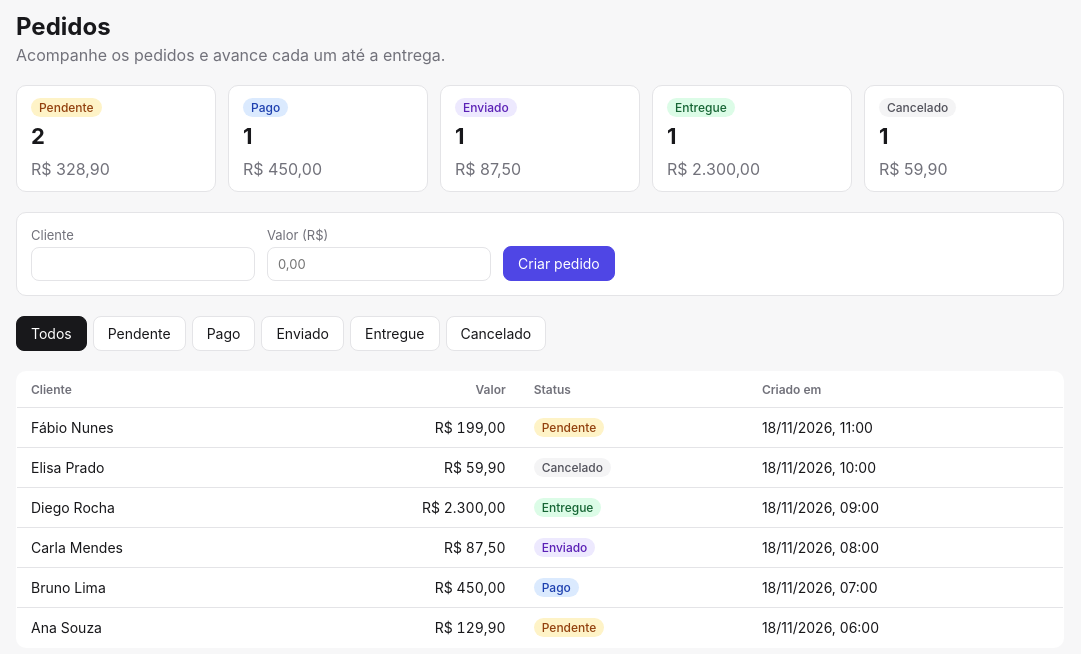
it: painel de pedidos › avança o status só pelas transições permitidas
Click the text "Bruno Lima".
click(147, 588)  # box [16,568,278,608]
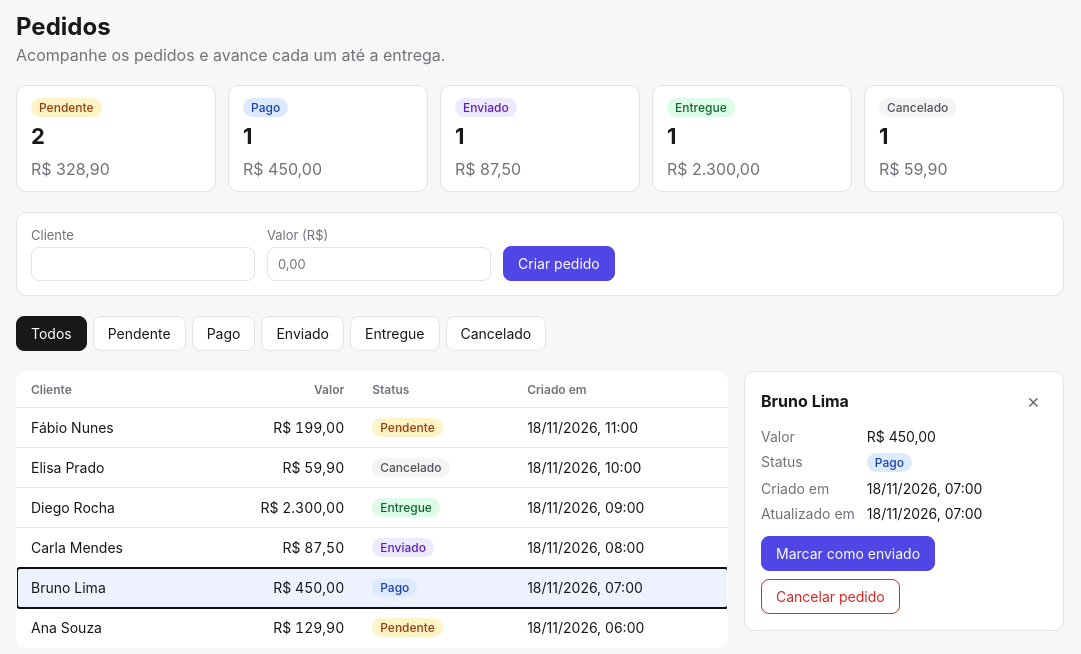
Click the button "Marcar como enviado".
click(848, 554)  # box [761,536,935,571]
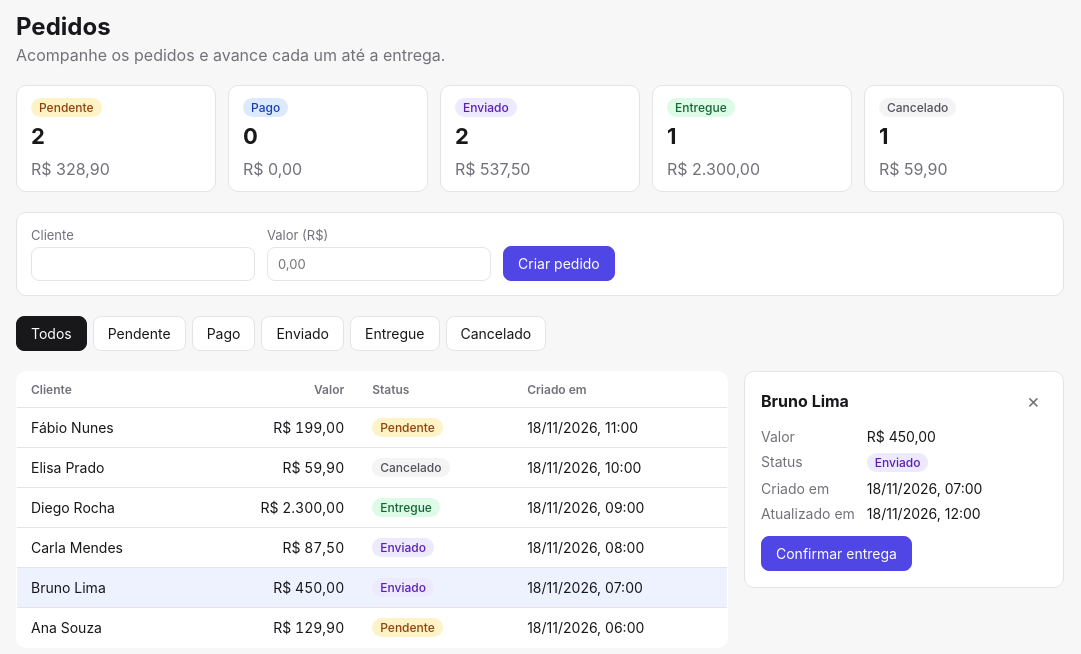
Check: the button "Confirmar entrega" is shown
Click the button "Confirmar entrega".
click(836, 554)  # box [761,536,912,571]
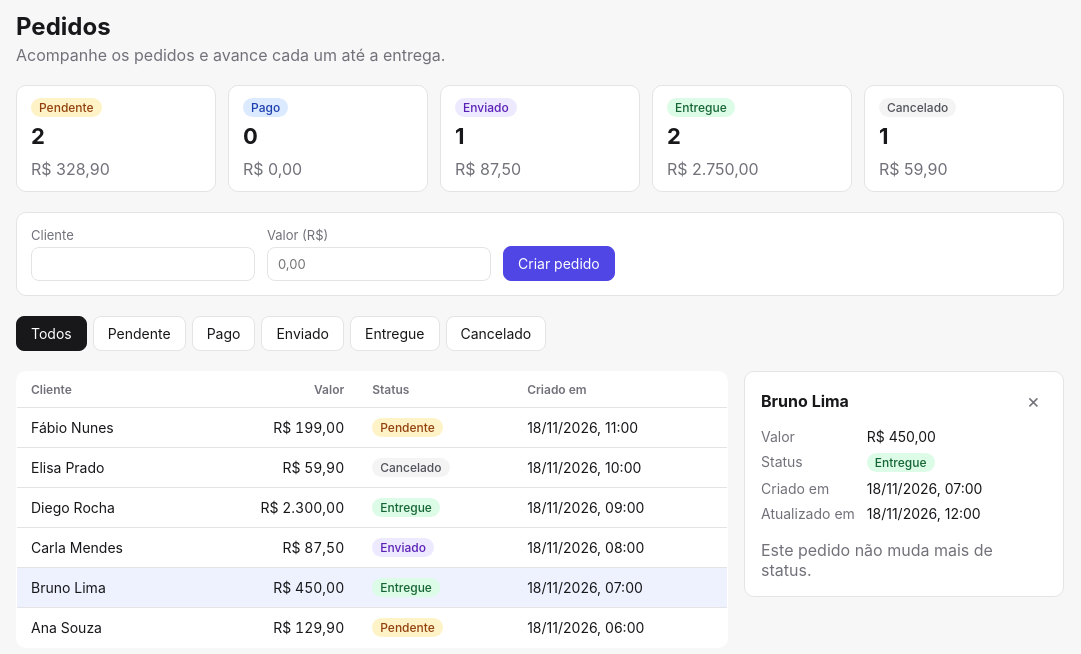
Check: the text "Este pedido não muda mais de status." is shown, box [761,540,993,580]
